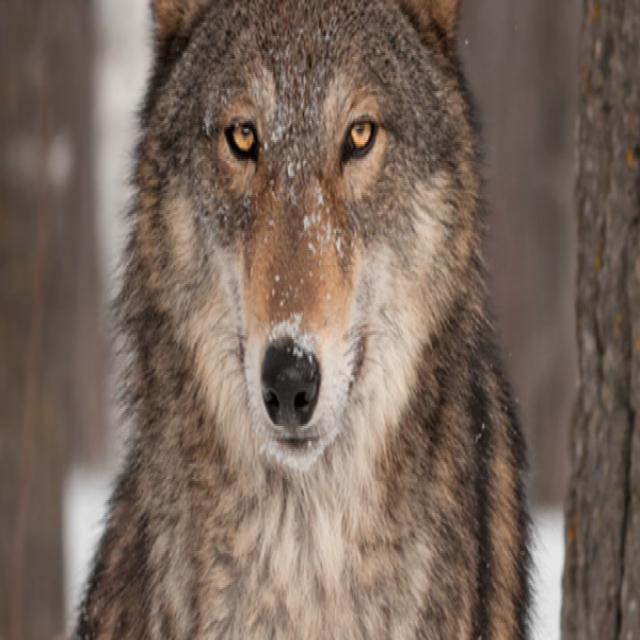wolf: (20, 0, 556, 640)
